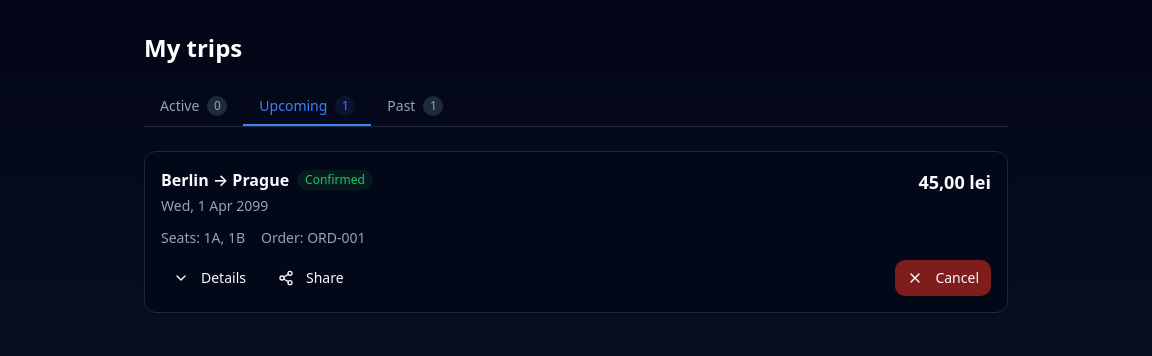
MyTripsPage › tabs › switches to past tab when clicked
Expected: the heading "Berlin → Prague" is shown, left=161, top=168, right=289, bottom=192
What coordinates should you click on to do the following:
click the tab "Past 1"
I would click on:
 (415, 107)
Its box is left=371, top=88, right=459, bottom=126.
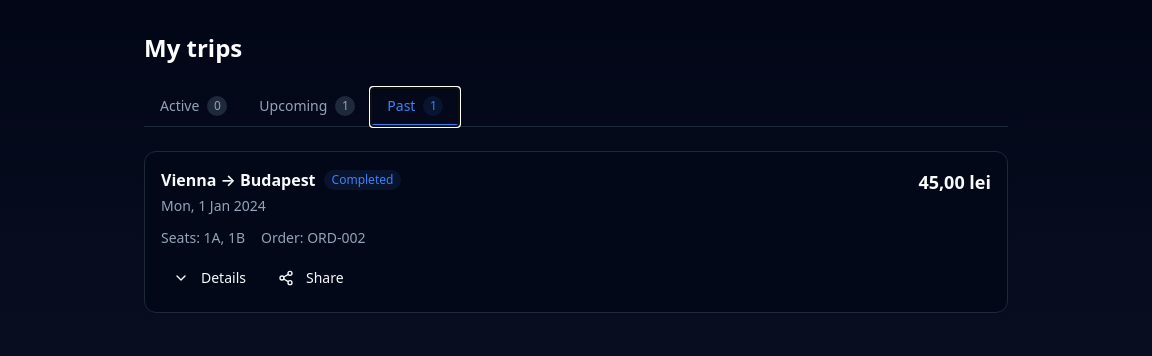
Now the heading "Vienna → Budapest" is shown, box left=161, top=168, right=316, bottom=192
